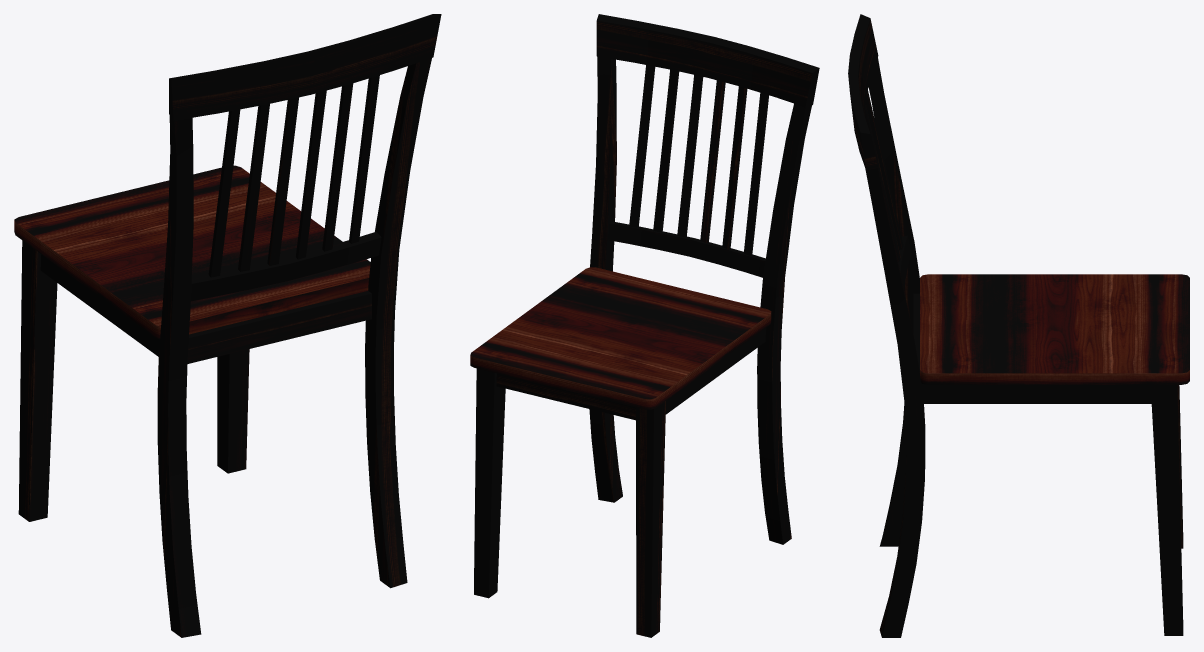
Rendered from Waifair_chair.gltf.
The picture shows the model from 3 angles, left to right: view 1: azimuth 30°, elevation 25°; view 2: azimuth 150°, elevation 25°; view 3: azimuth 270°, elevation 25°; orthographic projection. The views are drawn at different scales.
Parts seen in each view (by area): view 1: legs_chair_LP.002, seat_chair_LP, legs_chair_LP.003, legs_chair_LP, legs_chair_LP.001; view 2: legs_chair_LP.002, seat_chair_LP, legs_chair_LP.003, legs_chair_LP, legs_chair_LP.001; view 3: seat_chair_LP, legs_chair_LP.002, legs_chair_LP.001, legs_chair_LP.003, legs_chair_LP.
Part boxes in pixels (x1,y1,x2,y2): legs_chair_LP.002: (18, 58, 431, 637); seat_chair_LP: (14, 165, 370, 339); legs_chair_LP.003: (169, 14, 441, 301); legs_chair_LP: (208, 75, 379, 277); legs_chair_LP.001: (40, 254, 371, 363); legs_chair_LP.002: (474, 56, 811, 637); seat_chair_LP: (470, 267, 771, 409); legs_chair_LP.003: (596, 14, 819, 277); legs_chair_LP: (629, 65, 768, 255); legs_chair_LP.001: (496, 328, 766, 420); seat_chair_LP: (920, 274, 1189, 384); legs_chair_LP.002: (865, 57, 1183, 637); legs_chair_LP.001: (913, 293, 1151, 403); legs_chair_LP.003: (848, 14, 911, 290); legs_chair_LP: (865, 90, 903, 261).
Size of the model in its own units: 44.24 by 89.57 by 53.87.
1 material, 1 textured.
